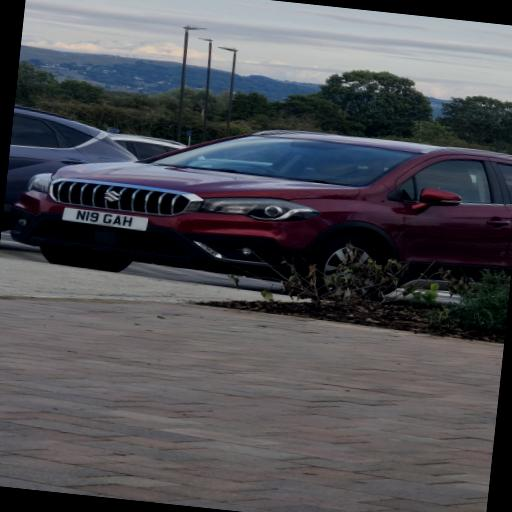numberplates: (63, 208, 148, 230)
